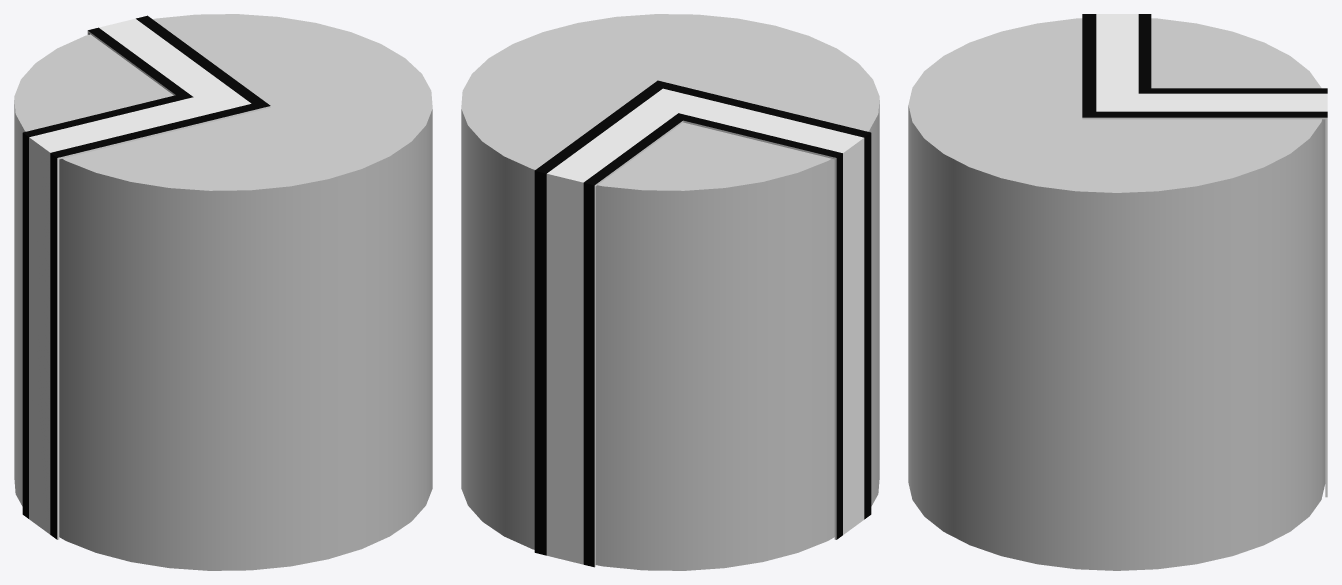
The model's file is Cylinder_Stripes.fbx.
3 views of the same model, side by side, from view 1: azimuth 30°, elevation 25°; view 2: azimuth 150°, elevation 25°; view 3: azimuth 270°, elevation 25° (orthographic).
Parts seen in each view (by area): view 1: Cylinder, Stripes_Cylinder; view 2: Cylinder, Stripes_Cylinder; view 3: Cylinder, Stripes_Cylinder.
Part boxes in pixels (x1=…): Cylinder: x1=14, y1=14, x2=432, y2=570; Stripes_Cylinder: x1=22, y1=15, x2=270, y2=539; Cylinder: x1=461, y1=14, x2=879, y2=570; Stripes_Cylinder: x1=534, y1=80, x2=871, y2=567; Cylinder: x1=908, y1=18, x2=1325, y2=570; Stripes_Cylinder: x1=1082, y1=14, x2=1327, y2=497.
Bounding box in the file's own units: 1.01 × 1.01 × 1.
Materials: 1 (1 with a texture image).
